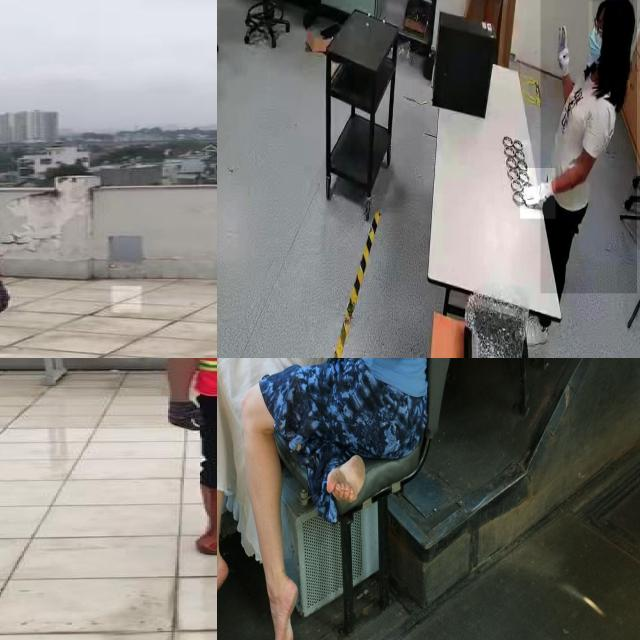Barefoots: (326, 455, 366, 503), (271, 577, 298, 640), (217, 554, 228, 631)
boots: (189, 483, 217, 557)
face_mask: (588, 2, 604, 68)
hand_glove: (520, 168, 556, 220), (554, 17, 574, 98), (164, 402, 206, 433), (0, 283, 10, 317)
head_nohelmet: (592, 0, 633, 22)
person: (540, 0, 637, 294), (153, 358, 217, 562)
shoes: (520, 313, 554, 351)
